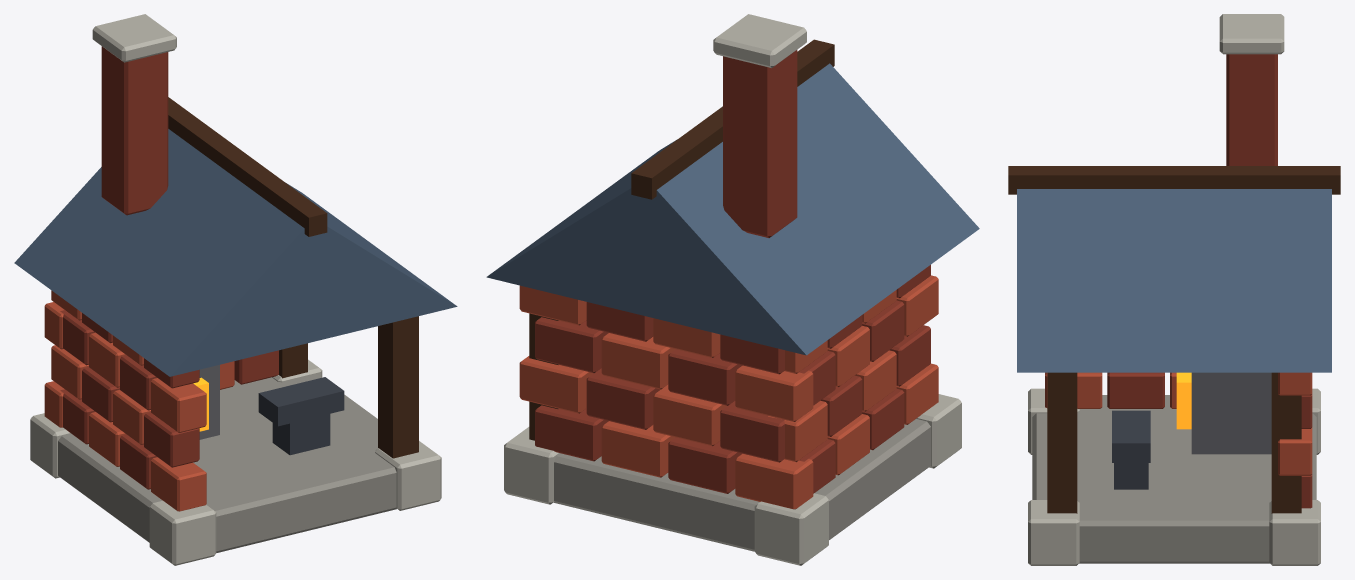
Rendered from smithy.glb.
3 renders of one model, left to right at view 1: azimuth 30°, elevation 25°; view 2: azimuth 150°, elevation 25°; view 3: azimuth 270°, elevation 25°, orthographic. The views are drawn at different scales.
Visible parts, largest first — view 1: roof_body, foundation_core, chimney_shaft, pillar_r, roof_ridge, corner_brick, anvil_top, chimney_cap, corner_brick.002, brick_2_0.001, brick_0_0.001, brick_1_0.001 (+17 smaller); view 2: roof_body, foundation_core, chimney_shaft, roof_ridge, corner_brick.001, brick_2_0, brick_0_0, chimney_cap, brick_2_1, brick_1_2, brick_0_2, brick_0_1 (+26 smaller); view 3: roof_body, foundation_core, roof_ridge, furnace_box, chimney_shaft, pillar_r, corner_brick.002, pillar_rb, corner_brick.003, chimney_cap, brick_0_1.001, anvil_top (+7 smaller).
Boxes of the visible parts, box(x1,y1,x2,y2) form: roof_body: box(14, 129, 457, 376); foundation_core: box(58, 374, 396, 552); chimney_shaft: box(101, 46, 168, 215); pillar_r: box(378, 316, 418, 458); roof_ridge: box(168, 97, 327, 236); corner_brick: box(149, 500, 216, 565); anvil_top: box(258, 377, 344, 426); chimney_cap: box(92, 14, 176, 62); corner_brick.002: box(375, 441, 441, 510); brick_2_0.001: box(151, 378, 206, 432); brick_0_0.001: box(151, 457, 206, 511); brick_1_0.001: box(144, 412, 199, 467); roof_body: box(486, 63, 979, 355); foundation_core: box(553, 419, 930, 551); chimney_shaft: box(723, 50, 797, 237); roof_ridge: box(631, 39, 834, 199); corner_brick.001: box(754, 493, 828, 565); brick_2_0: box(735, 365, 813, 421); brick_0_0: box(735, 453, 813, 509); chimney_cap: box(713, 14, 806, 67); brick_2_1: box(668, 349, 742, 405); brick_1_2: box(586, 368, 660, 429); brick_0_2: box(601, 421, 675, 477); brick_0_1: box(668, 437, 741, 493); roof_body: box(1017, 189, 1331, 372); foundation_core: box(1032, 395, 1316, 563); roof_ridge: box(1008, 166, 1340, 194); furnace_box: box(1191, 372, 1271, 454); chimney_shaft: box(1226, 54, 1277, 165); pillar_r: box(1047, 372, 1077, 513); corner_brick.002: box(1028, 500, 1079, 565); pillar_rb: box(1271, 372, 1301, 513); corner_brick.003: box(1269, 500, 1320, 565); chimney_cap: box(1219, 14, 1284, 54); brick_0_1.001: box(1107, 372, 1164, 408); anvil_top: box(1112, 410, 1150, 462).
Bounding box in the file's own units: 1.56 × 2.27 × 1.54.
